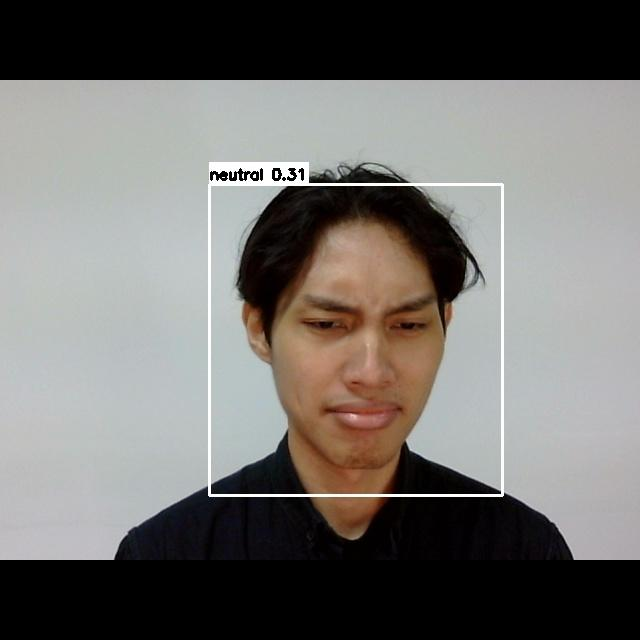Disgust: (266, 266, 454, 450)
